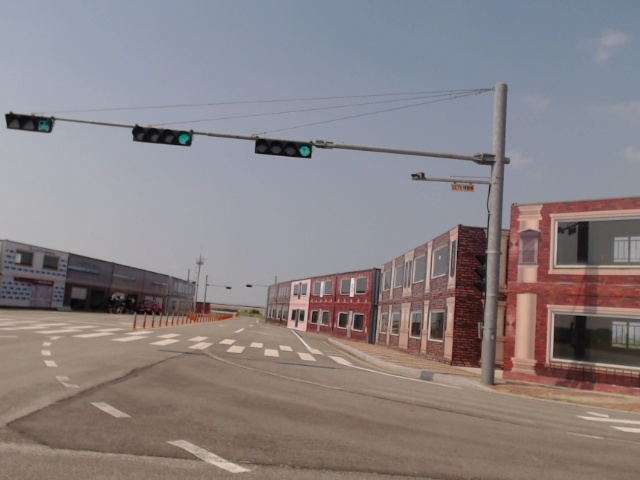straight_green_4: (255, 139, 312, 160), (134, 129, 191, 147)
